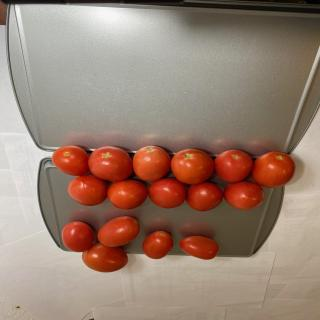Chilli: (48, 144, 296, 272)
Tomato: (251, 152, 296, 188), (88, 146, 133, 181), (171, 148, 214, 184), (132, 146, 171, 182), (82, 242, 128, 272), (97, 216, 140, 247), (67, 174, 108, 206), (214, 150, 253, 182), (107, 180, 148, 210), (223, 181, 265, 210), (148, 178, 186, 209), (52, 145, 89, 176), (186, 182, 224, 211), (179, 235, 219, 260), (62, 221, 94, 252), (142, 231, 174, 259)
